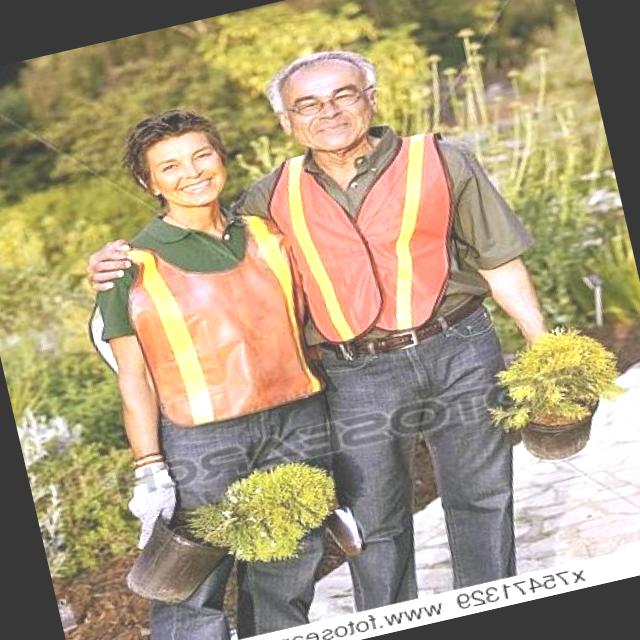gloves: (98, 434, 209, 558)
no-helmet: (258, 30, 406, 186), (102, 96, 244, 238)
vest: (85, 192, 328, 437), (262, 124, 468, 360)
